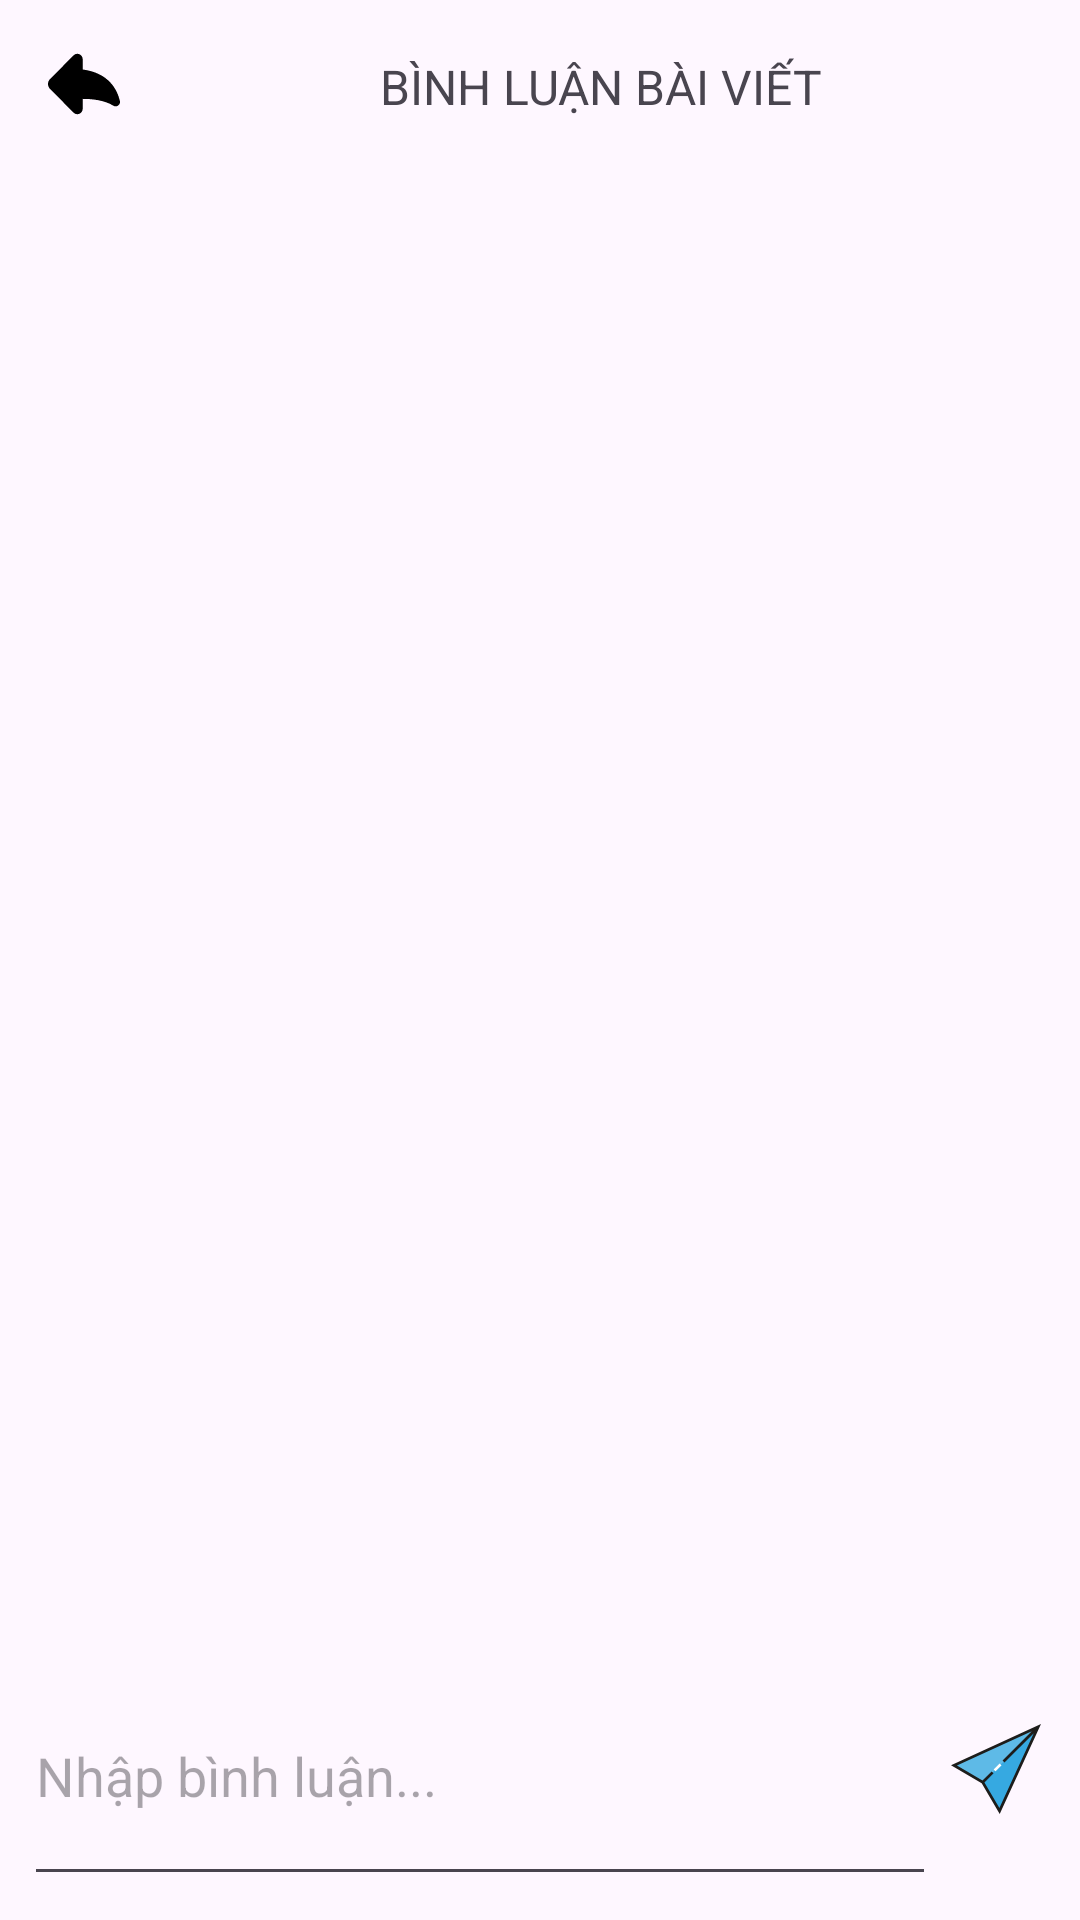

Where icons sit on this 1080px x 1920px app screen, as BBox(x1, y1, x2, y2):
back arrow: BBox(48, 53, 120, 115)
send: BBox(951, 1724, 1041, 1814)
